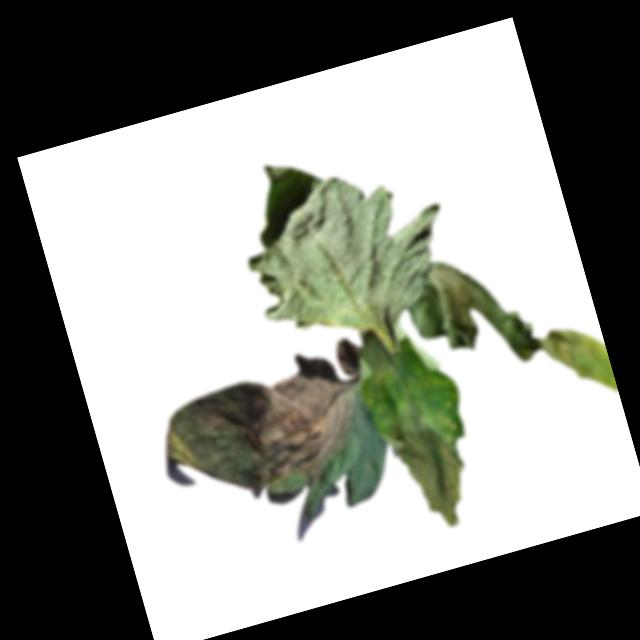Late_blight: (397, 223, 618, 443), (146, 336, 384, 521), (374, 395, 482, 540), (351, 331, 396, 383)
healthy: (223, 122, 473, 385)
